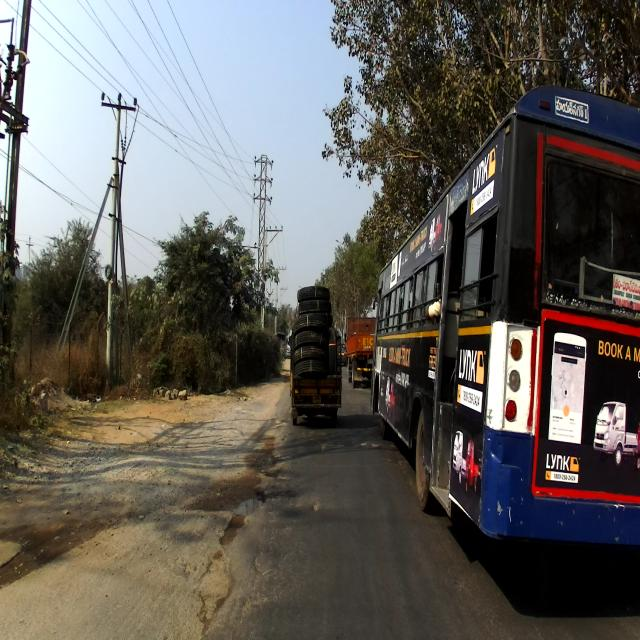bus ahead at: (371, 85, 640, 545)
electric pole ahead at: (95, 80, 144, 398)
truck ahead at: (281, 281, 350, 424)
